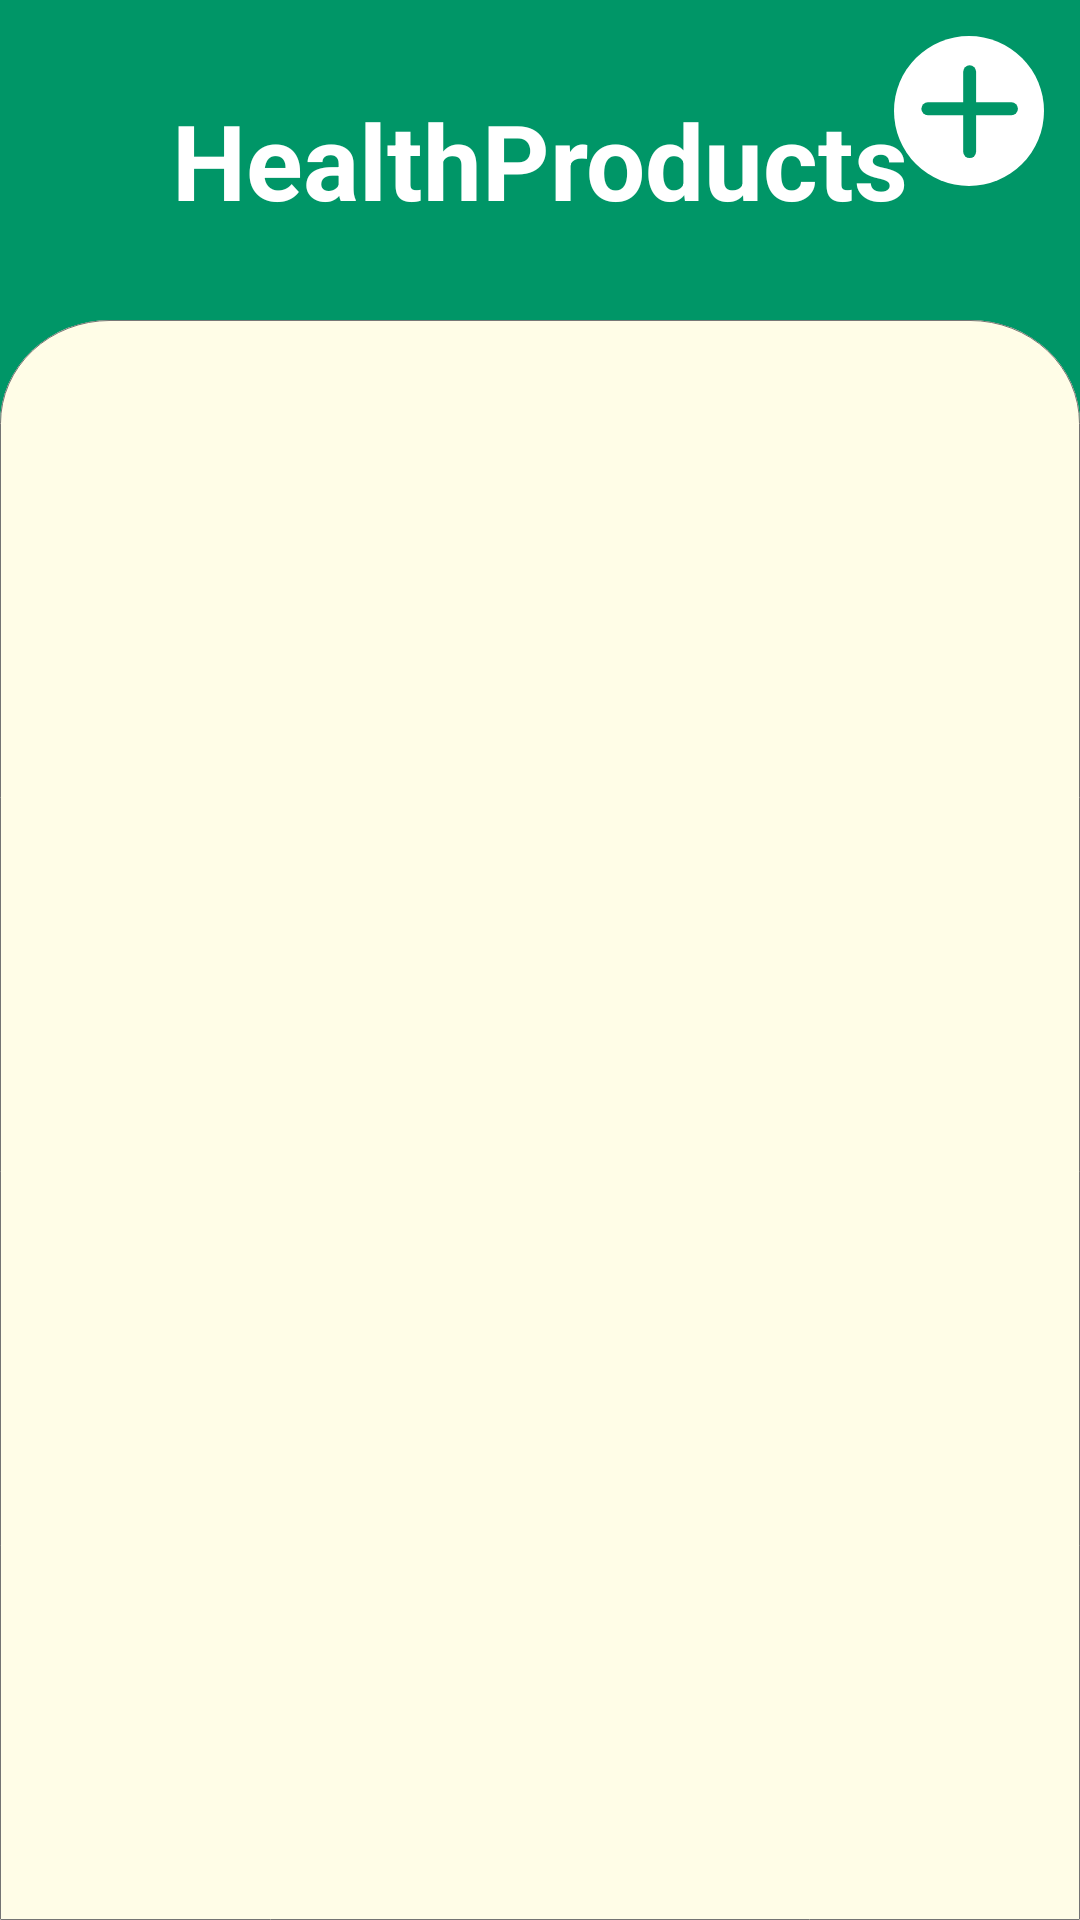

Screen size 1080px x 1920px. Icon name, then its box in pixels as [left=x1, top=y1, right=x2, bottom=y2]:
add: [left=894, top=36, right=1044, bottom=186]
